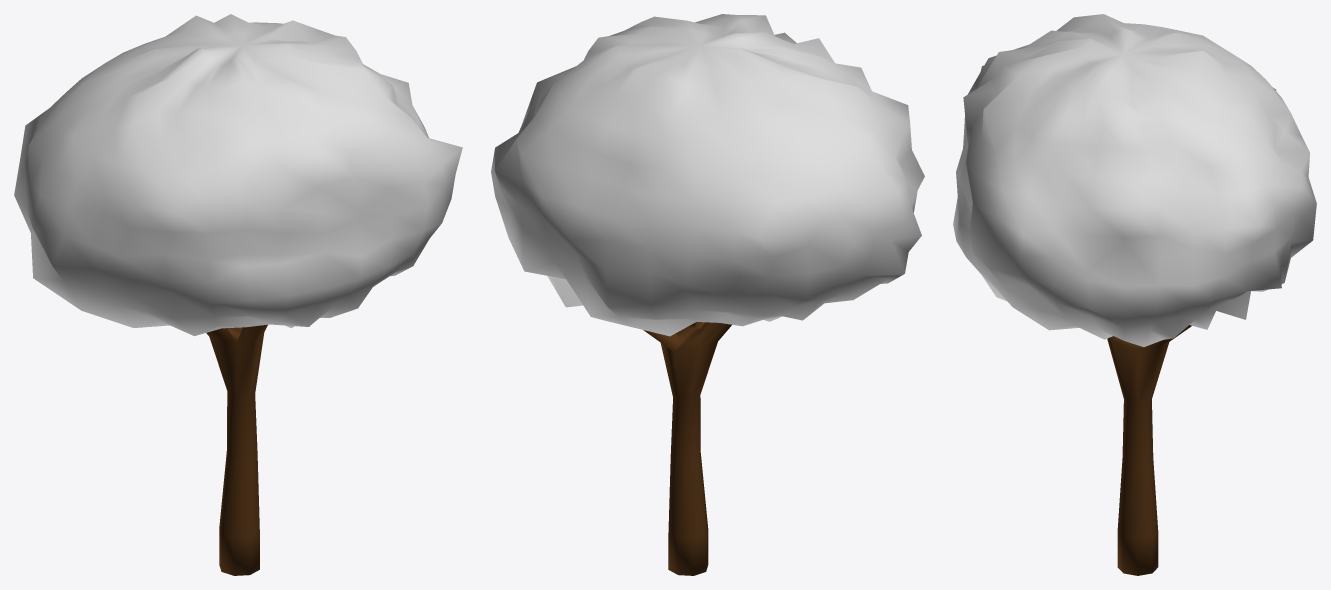
File: Arbol.fbx
3 views of the same model, side by side, from view 1: azimuth 30°, elevation 25°; view 2: azimuth 150°, elevation 25°; view 3: azimuth 270°, elevation 25° (orthographic). The views are drawn at different scales.
Visible parts, largest first — view 1: Sphere.008, Cylinder.001; view 2: Sphere.008, Cylinder.001; view 3: Sphere.008, Cylinder.001.
Boxes of the visible parts, x1,y1,x2,y2 form: Sphere.008: (14, 14, 462, 336); Cylinder.001: (206, 324, 267, 575); Sphere.008: (491, 14, 924, 336); Cylinder.001: (643, 322, 731, 575); Sphere.008: (953, 14, 1316, 347); Cylinder.001: (1107, 325, 1191, 575).
Bounding box in the file's own units: 265 × 353 × 225.
